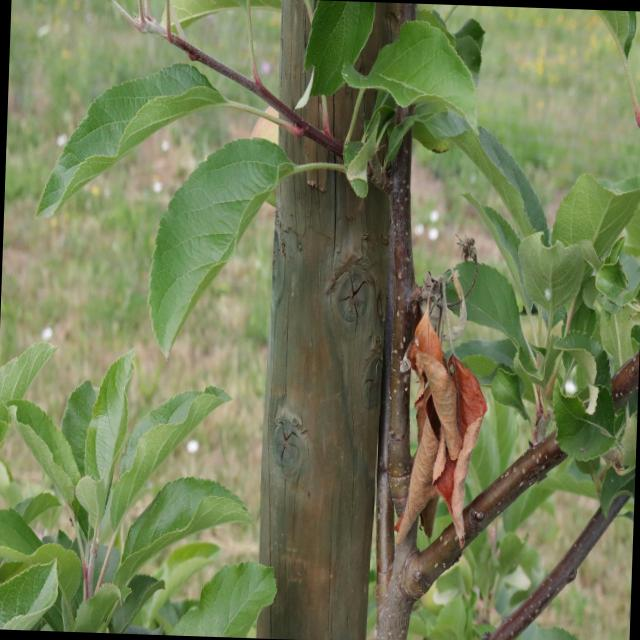-FireBlight-: (371, 270, 489, 548)
